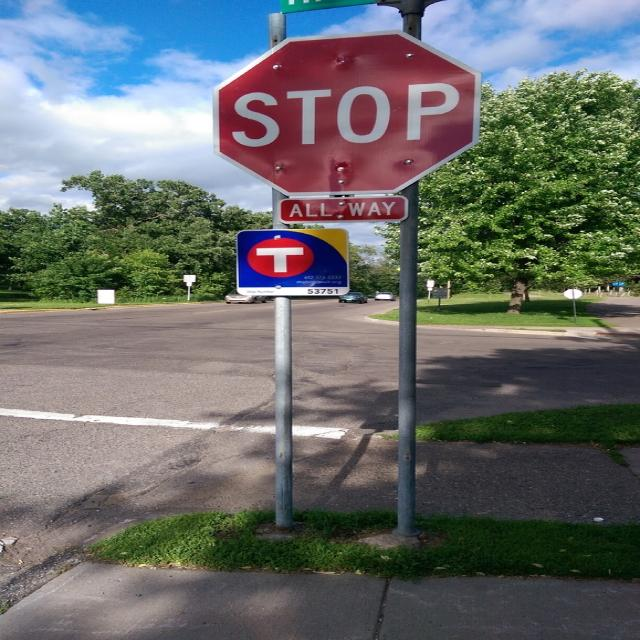Stop-sign: (209, 29, 480, 194)
